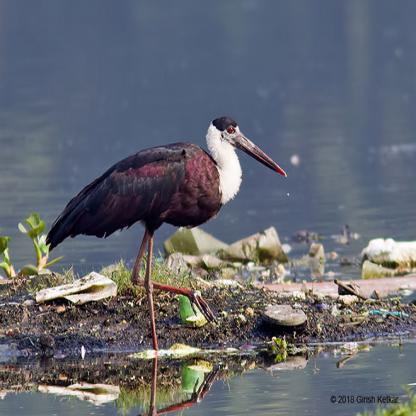Burung: (44, 114, 288, 353)
